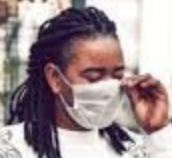with_facemask: (74, 72, 127, 121)
